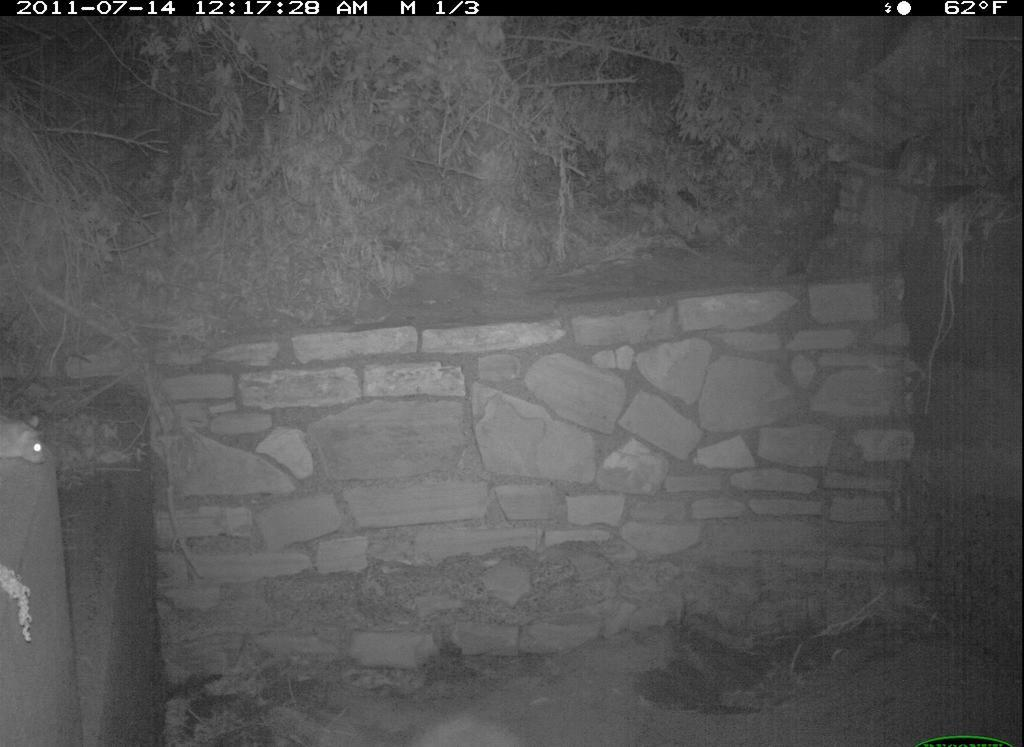rodent: (1, 405, 53, 469)
